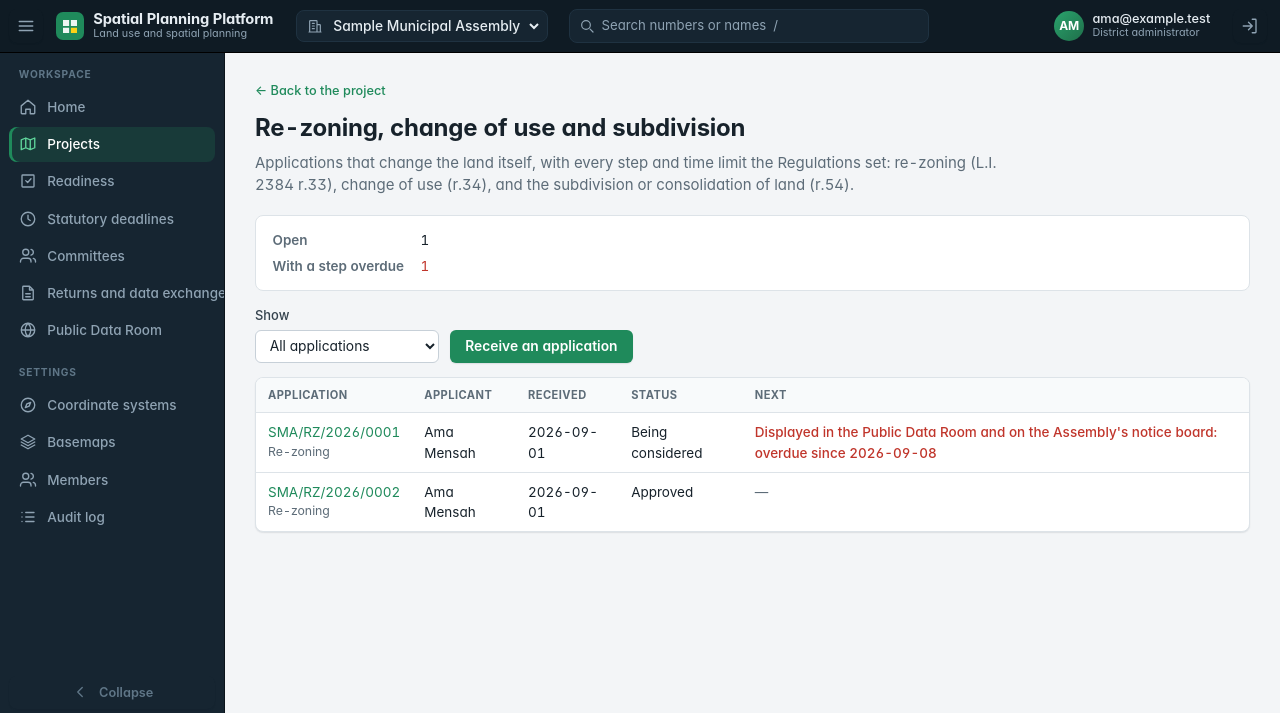
Test case: re-zoning, change of use and subdivision › lists a project's applications with what is overdue, and receives a re-zoning for a parcel
Expected: the text "SMA/RZ/2026/0001" shows "overdue since 2026-09-08", [755, 424, 1217, 461]
Click the button "Receive an application": [541, 347] box [450, 330, 633, 363]
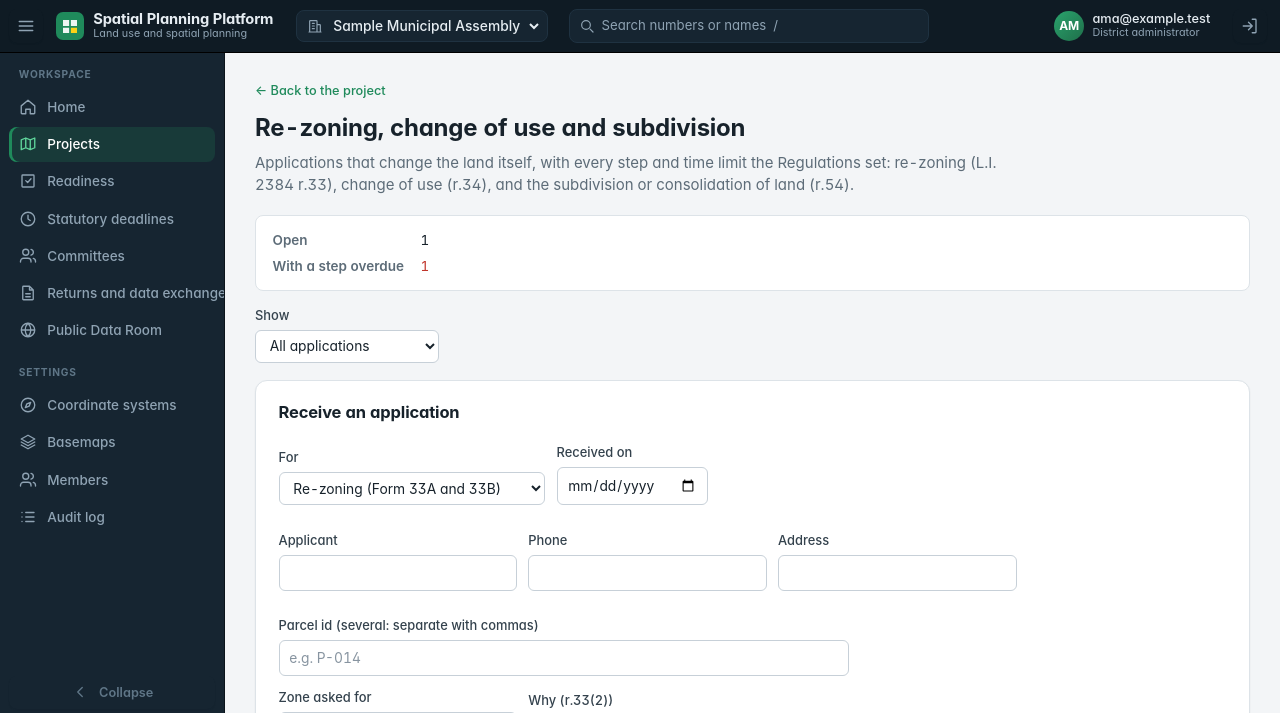
In the field labelled "Applicant": [398, 573] box [278, 555, 517, 591], type "Ama Mensah"
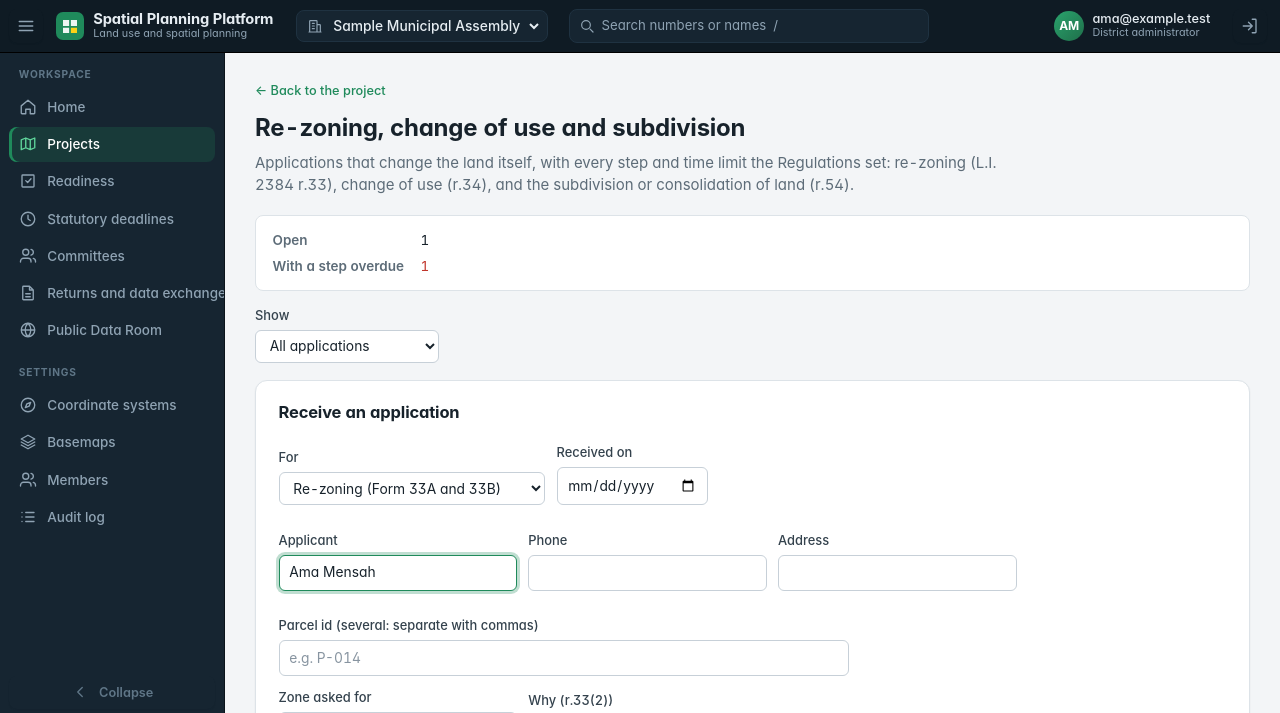
In the field named "Parcel ids": [564, 658] box [278, 640, 848, 676], type "P-002"
(page scrolled)
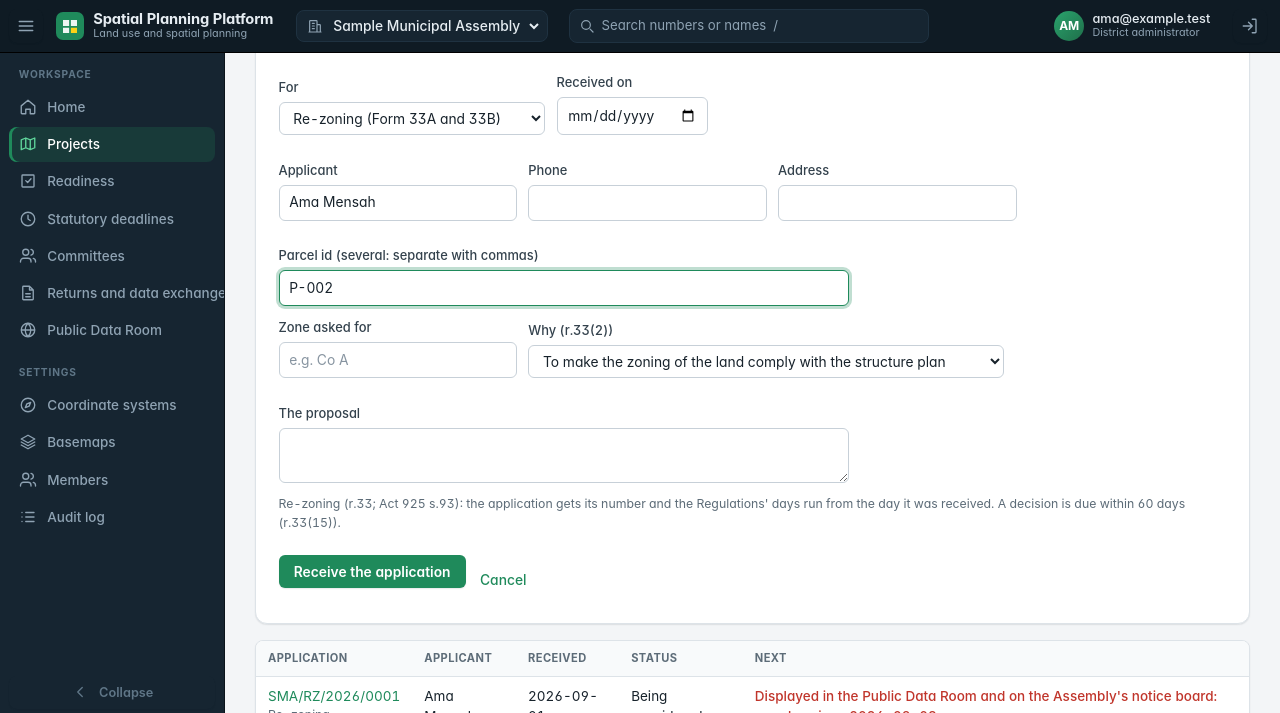
In the field labelled "Zone asked for": [398, 360] box [278, 342, 517, 378], type "Re B"
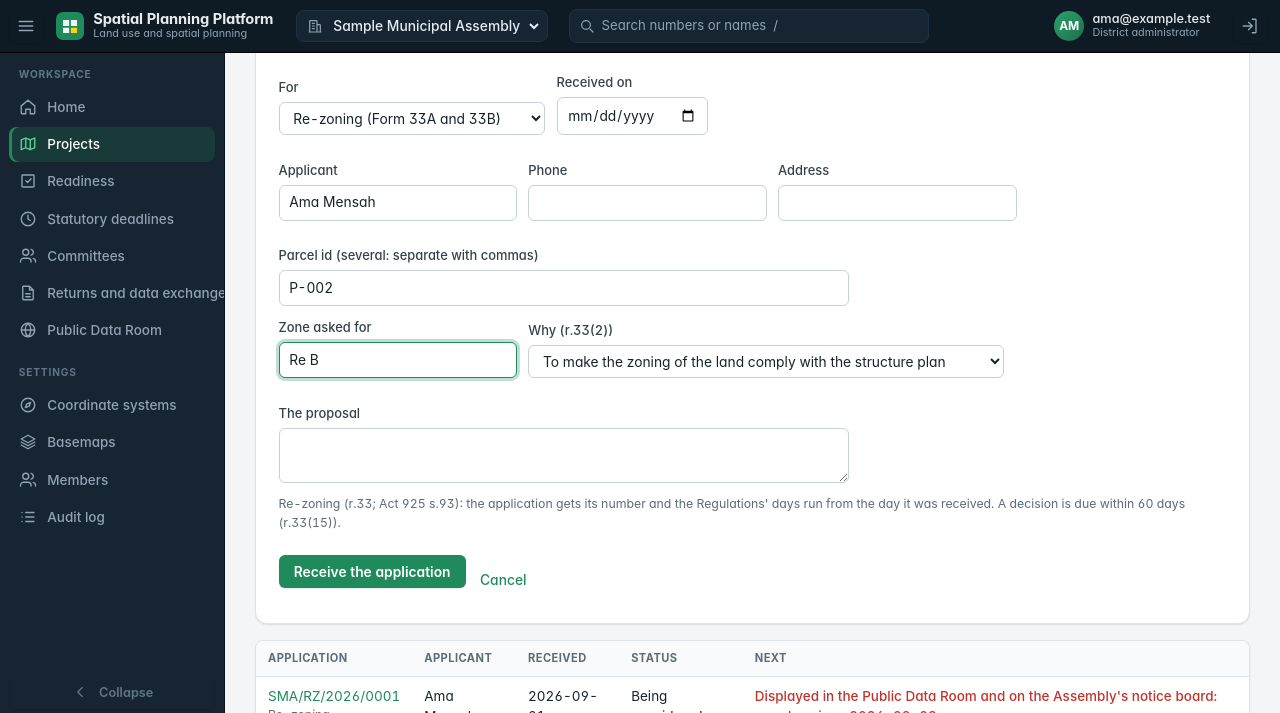
Select "A special circumstance has arisen that necessitates the change" in the dropdown labelled "Why": [766, 362] box [528, 345, 1004, 378]
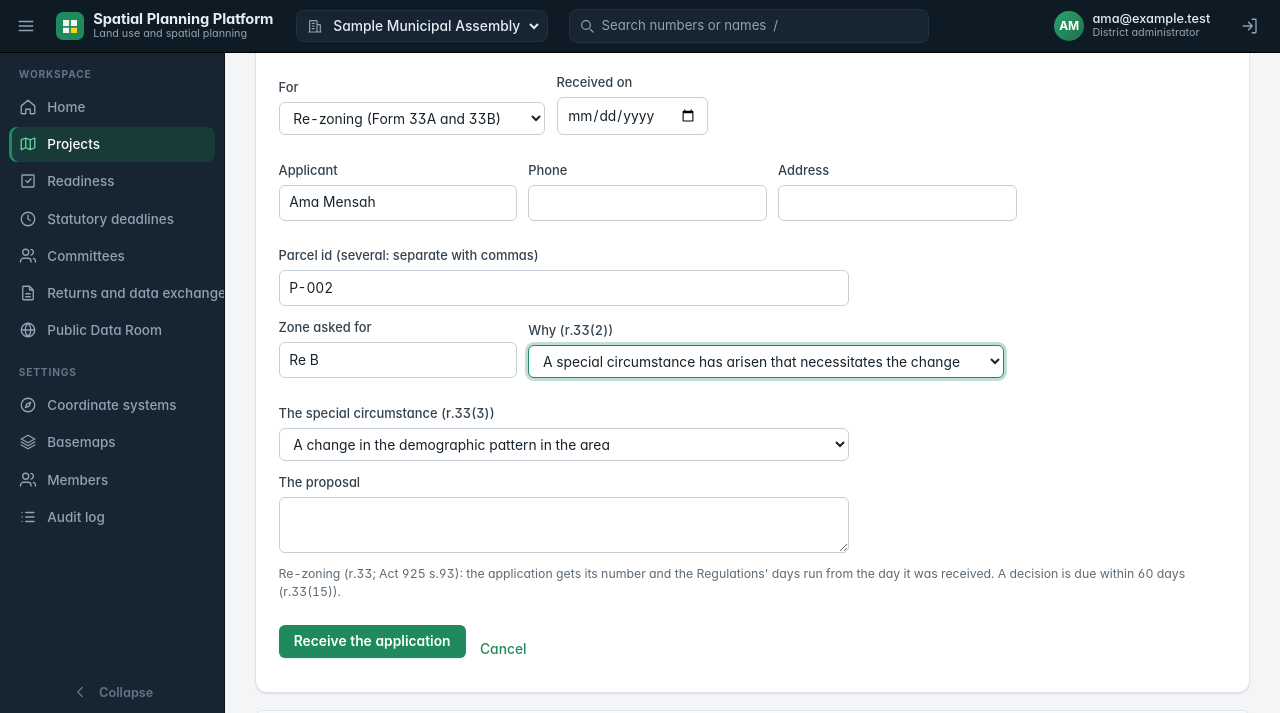
Click the button "Receive the application": [372, 641] box [278, 625, 466, 658]
(page scrolled)
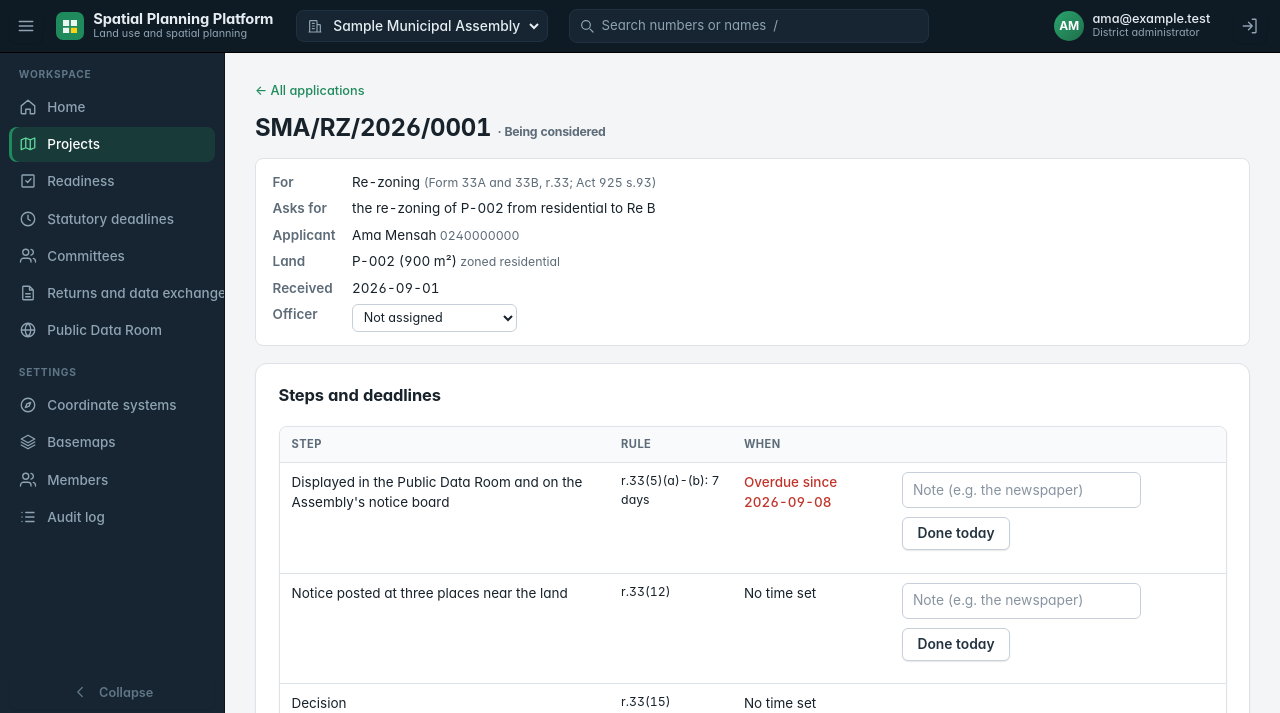
Now the heading "SMA/RZ/2026/0001 · Being considered" is shown, box [255, 112, 606, 142]
